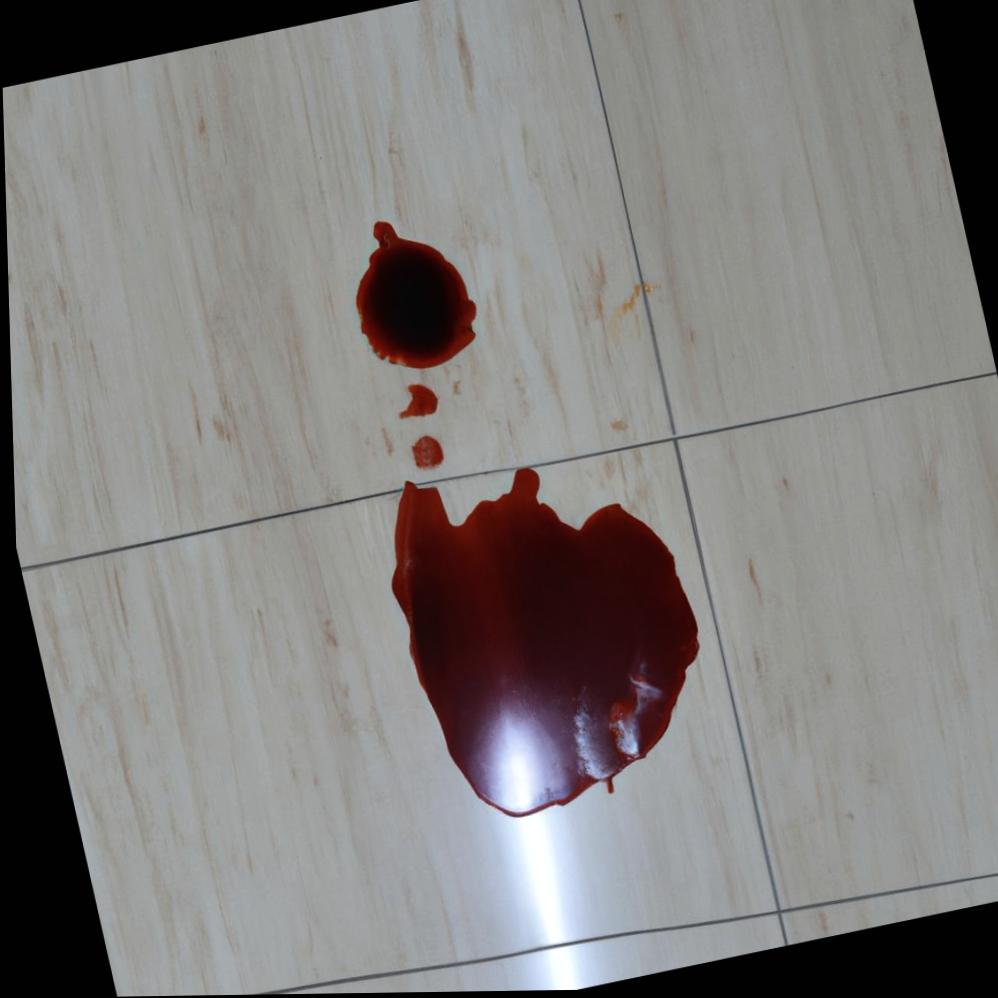Fire: (388, 470, 697, 820), (354, 222, 475, 370), (397, 386, 437, 421), (409, 436, 442, 472)
